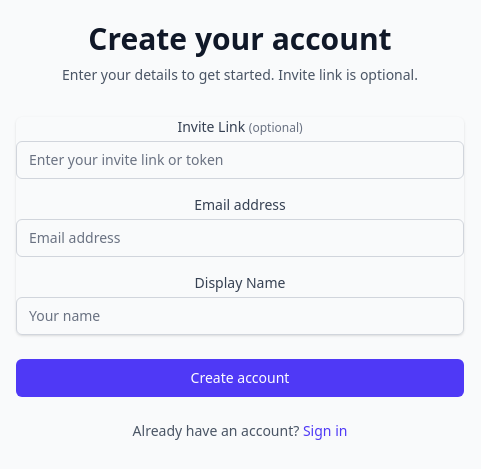
RegisterPage › validates invite token when entered
The image size is (481, 469).
In the field with placeholder "Enter your invite link or token": (240, 160) [16,141,464,179], type "valid-token"
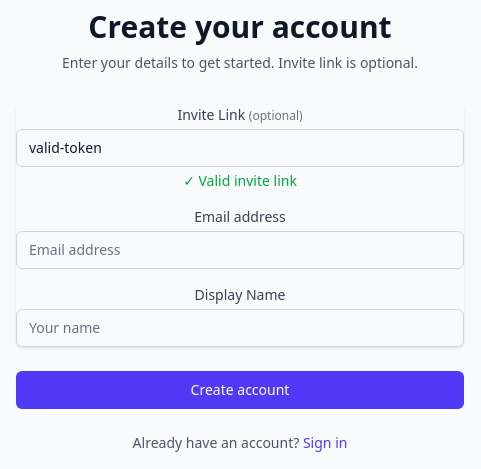
Expected: the text "✓ Valid invite link" is shown, [183,171,297,190]
